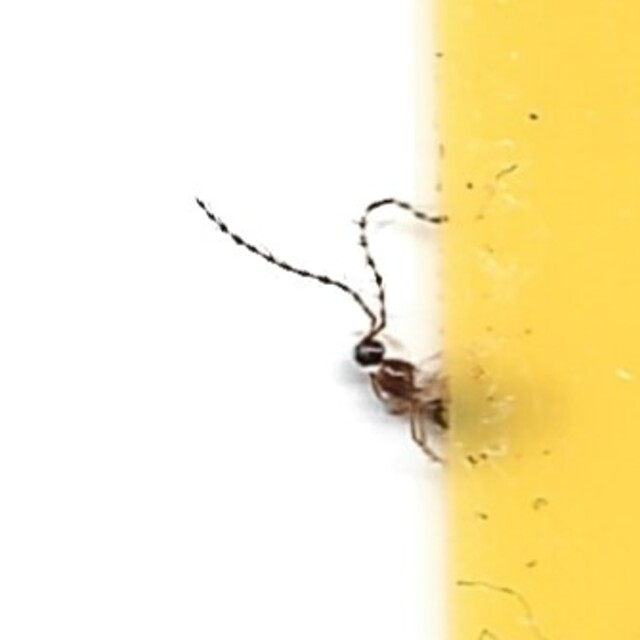Hymenoptera: (191, 187, 449, 453)
